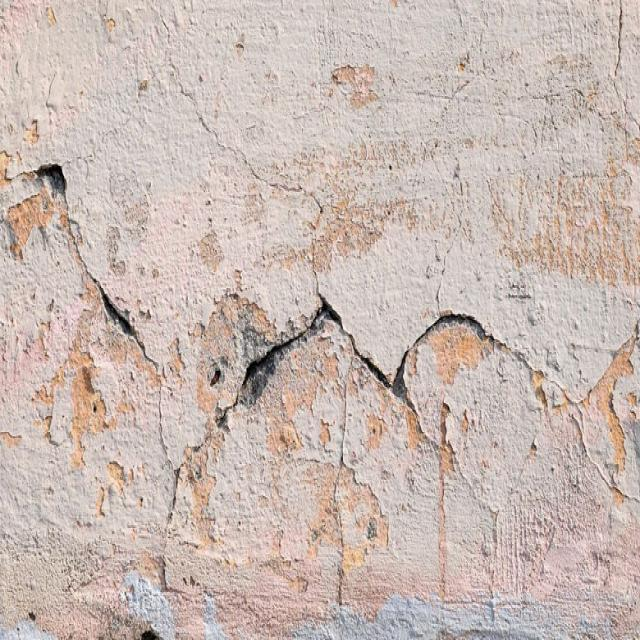crack: (234, 295, 490, 412)
efflorescence: (69, 361, 116, 465), (5, 188, 55, 254)
